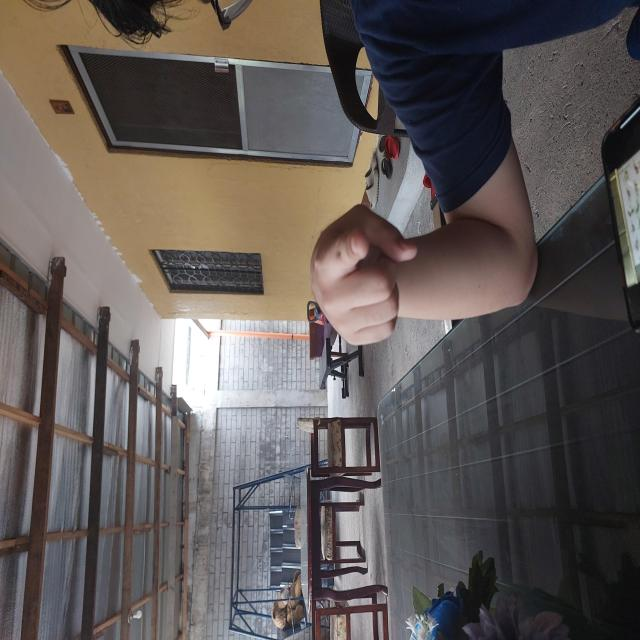Z: (295, 194, 427, 362)
